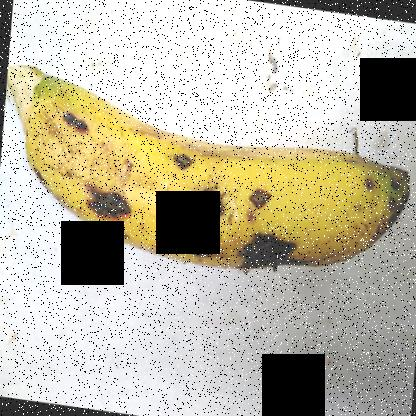ripe: (8, 57, 407, 288)
rotten: (232, 227, 321, 299), (81, 174, 142, 252), (186, 181, 233, 242), (244, 182, 292, 227), (62, 102, 105, 144), (171, 243, 220, 275), (162, 152, 192, 177)
